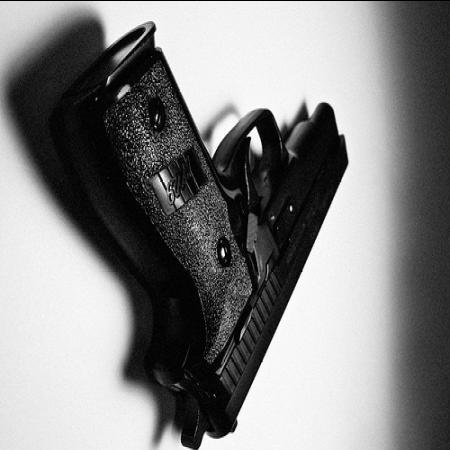Pistol: (52, 22, 351, 448)
